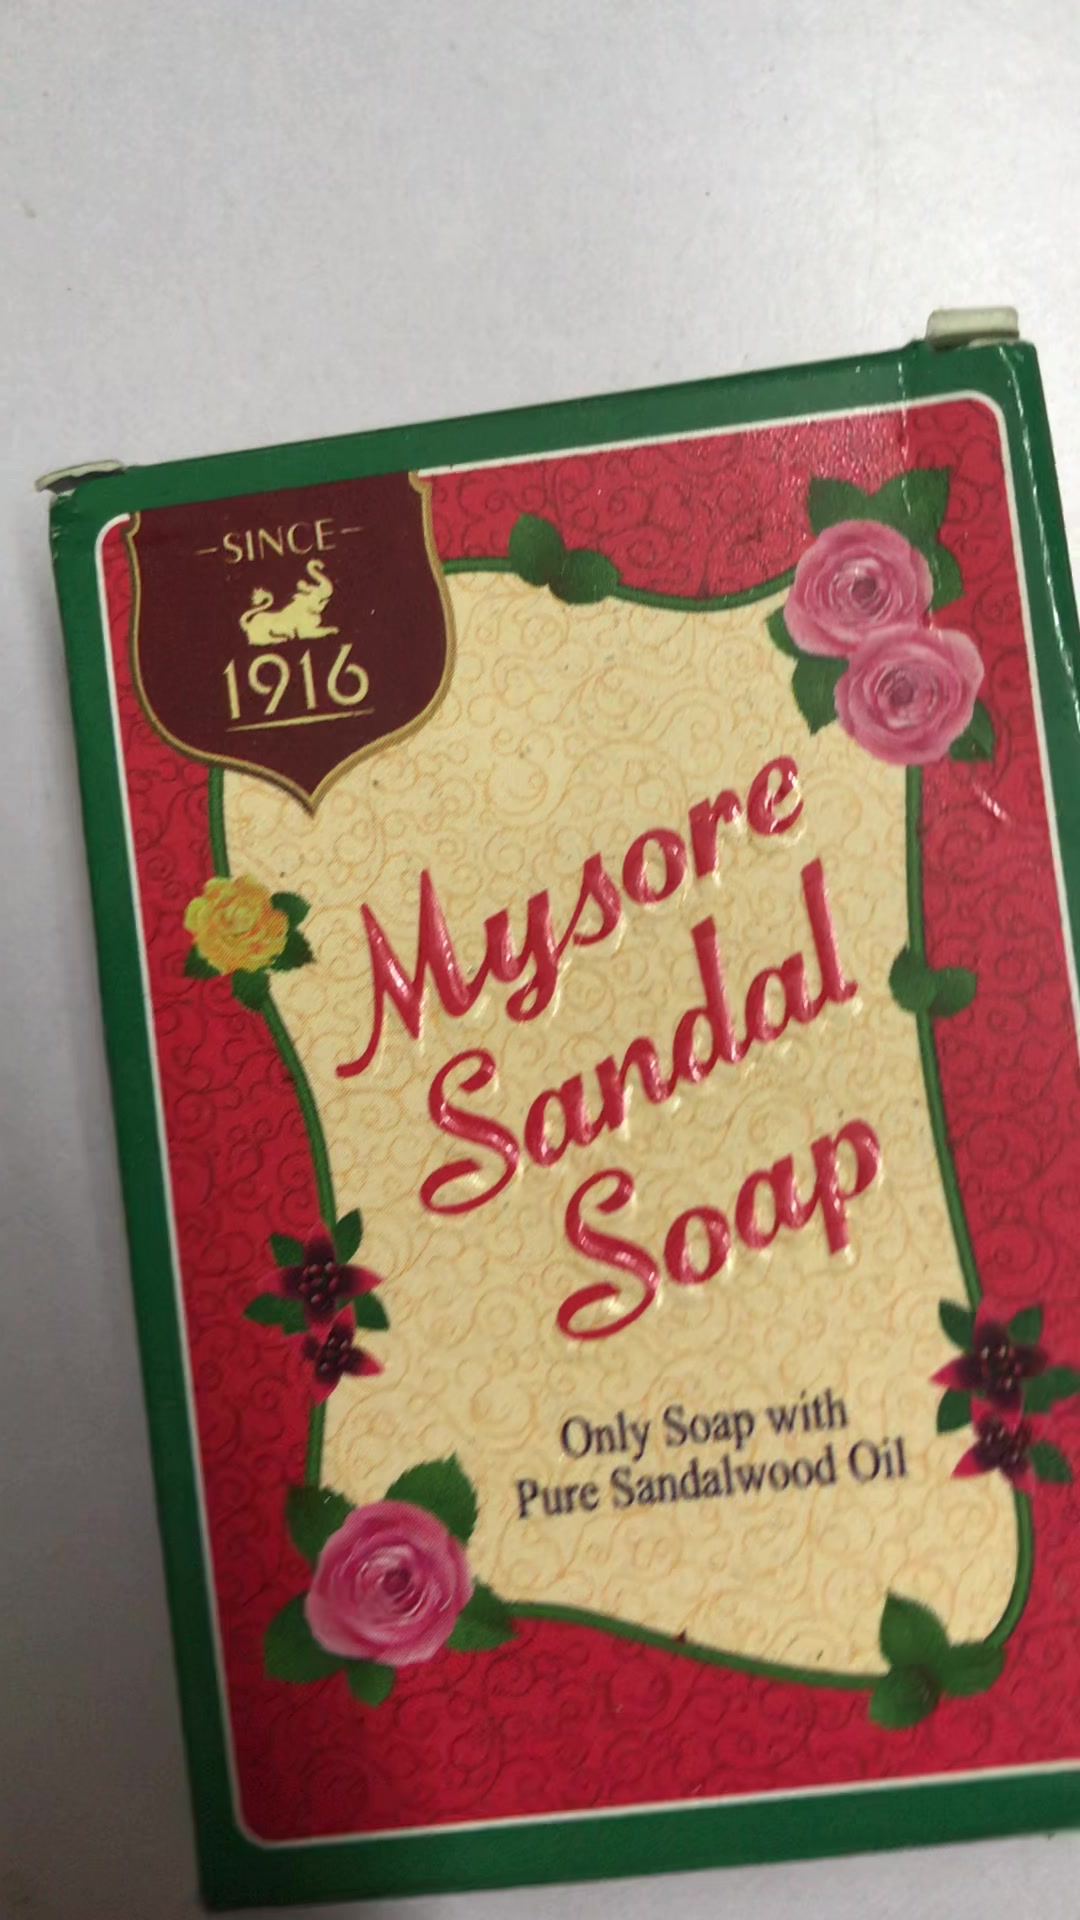mysore sandal soap: (45, 309, 1076, 1911)
